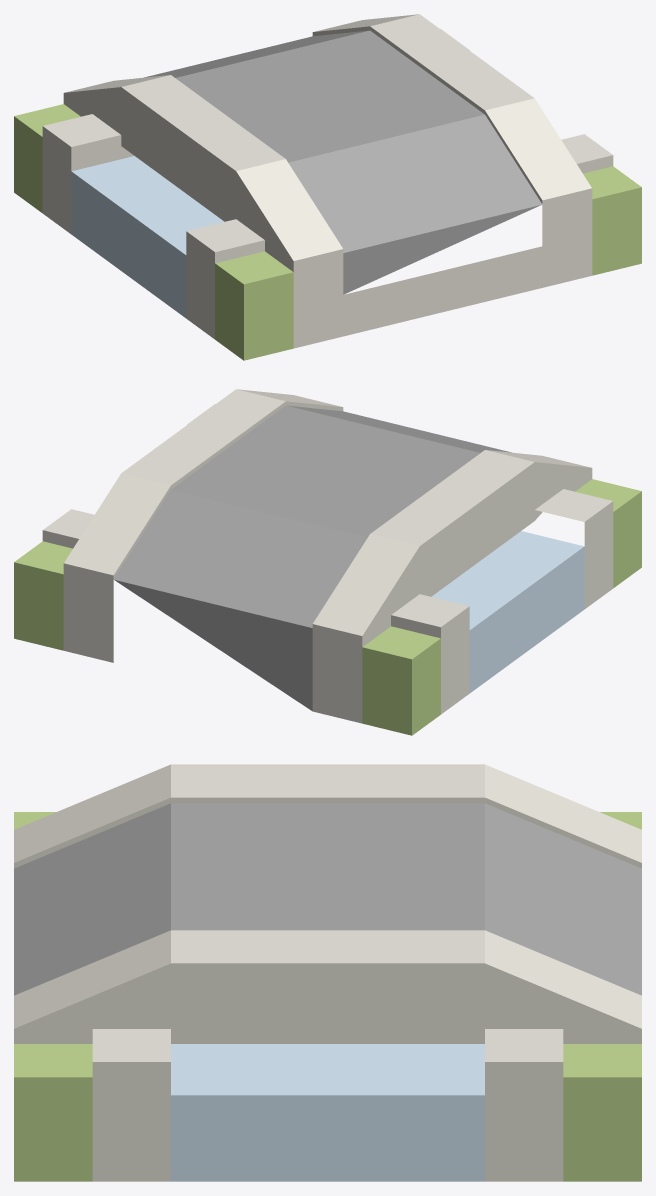
The model's file is kenney-3d-road-tiles-roadtile-233.glb.
The picture shows the model from 3 angles, top to bottom: view 1: azimuth 30°, elevation 25°; view 2: azimuth 150°, elevation 25°; view 3: azimuth 270°, elevation 25°; orthographic projection. The views are drawn at different scales.
Visible parts, largest first — view 1: Mesh1 Group1 Model; view 2: Mesh1 Group1 Model; view 3: Mesh1 Group1 Model.
Boxes of the visible parts, box(x1,y1,x2,y2) form: Mesh1 Group1 Model: box(14, 14, 641, 360); Mesh1 Group1 Model: box(14, 389, 641, 735); Mesh1 Group1 Model: box(14, 764, 641, 1181).
Size of the model in its own units: 3 by 0.975 by 3.
